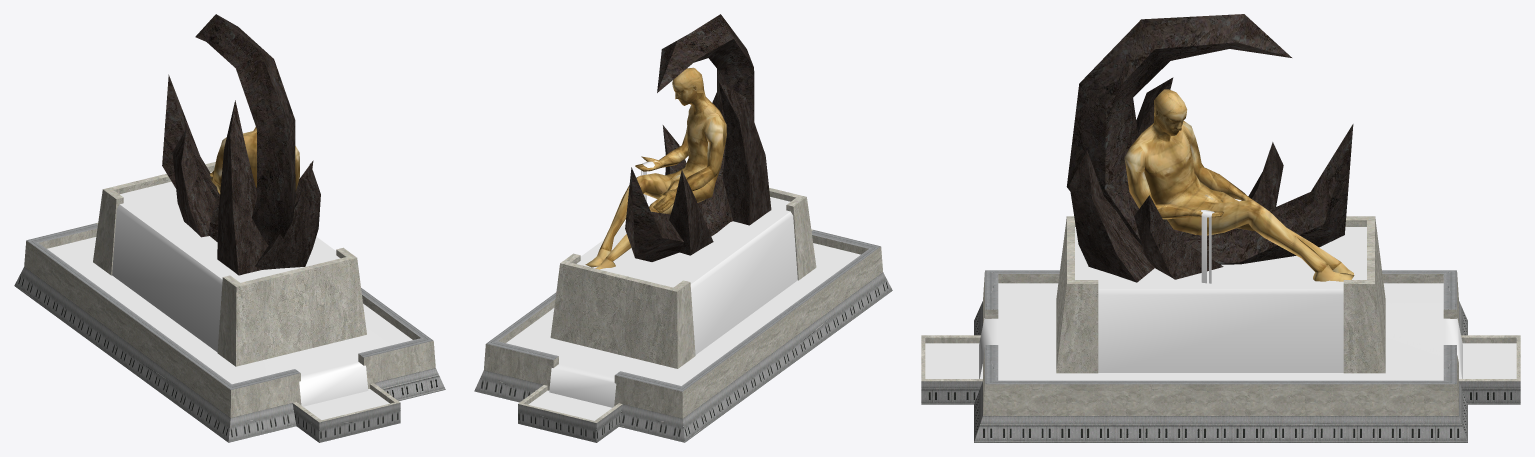
Rendered from thm_corl_fountain_statue_contemplate_s01_l0.fbx.
3 views of the same model, side by side, from view 1: azimuth 30°, elevation 25°; view 2: azimuth 150°, elevation 25°; view 3: azimuth 270°, elevation 25° (orthographic). The views are drawn at different scales.
Parts seen in each view (by area): view 1: mesh_node; view 2: mesh_node; view 3: mesh_node.
Boxes of the visible parts, x1=… form: mesh_node: x1=14, y1=14, x2=445, y2=442; mesh_node: x1=474, y1=14, x2=892, y2=442; mesh_node: x1=921, y1=14, x2=1520, y2=442.
Bounding box in the file's own units: 4.29 × 5.98 × 8.89.
